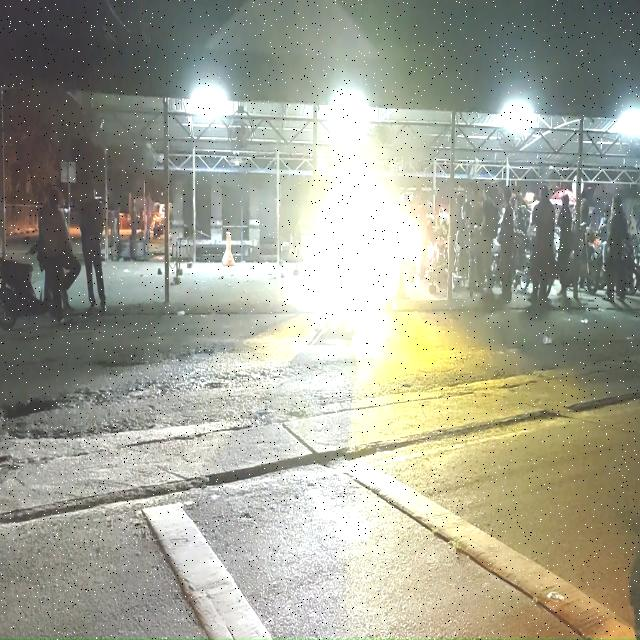Golongan II: (0, 258, 48, 329)
